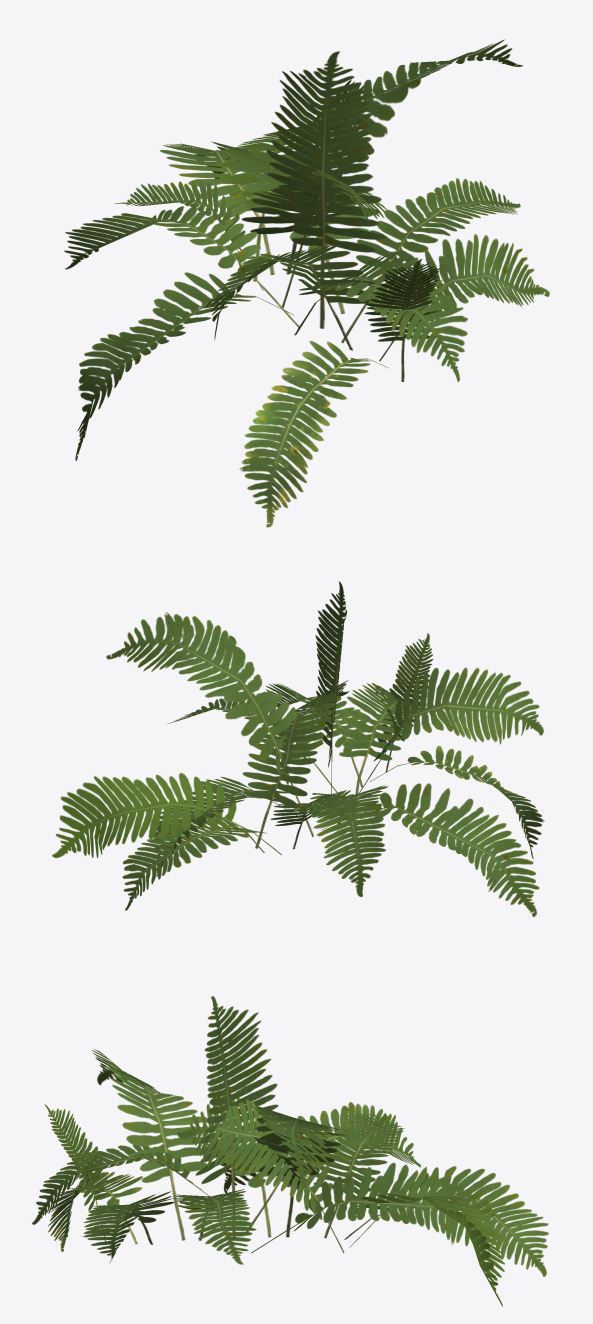
The model's file is fern.glb.
3 views of the same model, one above another, from view 1: azimuth 30°, elevation 25°; view 2: azimuth 150°, elevation 25°; view 3: azimuth 270°, elevation 25° (orthographic). The views are drawn at different scales.
Parts seen in each view (by area): view 1: Polypodium_vulgare_HD_Polypodium_01b_0, Polypodium_vulgare_HD_Polypodium_01c_0, Polypodium_vulgare_HD_Polypodium_01a_0; view 2: Polypodium_vulgare_HD_Polypodium_01b_0, Polypodium_vulgare_HD_Polypodium_01a_0, Polypodium_vulgare_HD_Polypodium_01c_0; view 3: Polypodium_vulgare_HD_Polypodium_01b_0, Polypodium_vulgare_HD_Polypodium_01a_0, Polypodium_vulgare_HD_Polypodium_01c_0.
Boxes of the visible parts, x1,y1,x2,y2 form: Polypodium_vulgare_HD_Polypodium_01b_0: [64, 39, 549, 460]; Polypodium_vulgare_HD_Polypodium_01c_0: [239, 340, 388, 527]; Polypodium_vulgare_HD_Polypodium_01a_0: [218, 79, 440, 381]; Polypodium_vulgare_HD_Polypodium_01b_0: [106, 581, 543, 917]; Polypodium_vulgare_HD_Polypodium_01a_0: [52, 633, 433, 857]; Polypodium_vulgare_HD_Polypodium_01c_0: [369, 745, 544, 859]; Polypodium_vulgare_HD_Polypodium_01b_0: [32, 996, 548, 1276]; Polypodium_vulgare_HD_Polypodium_01a_0: [44, 1104, 504, 1306]; Polypodium_vulgare_HD_Polypodium_01c_0: [47, 1171, 142, 1251].
Bounding box in the file's own units: 0.5661 × 0.3773 × 0.5773.
Materials: 3 (3 with a texture image).
